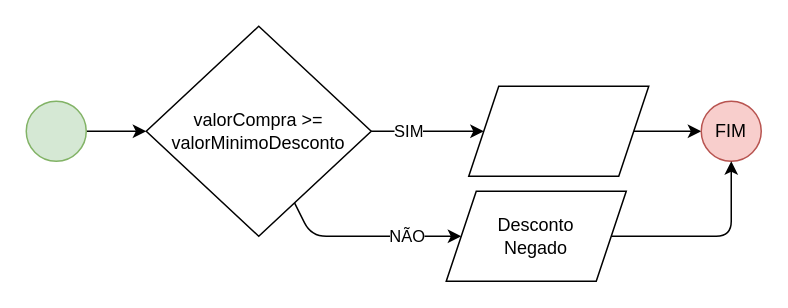
The diagram is 788 pixels wide and 308 high, and some of its shapes have lost their labels. The centre of each missing label's shape, as x and y in pixels:
Desconto Concedido: the point at 558,130
INÍCIO: the point at 55,130
